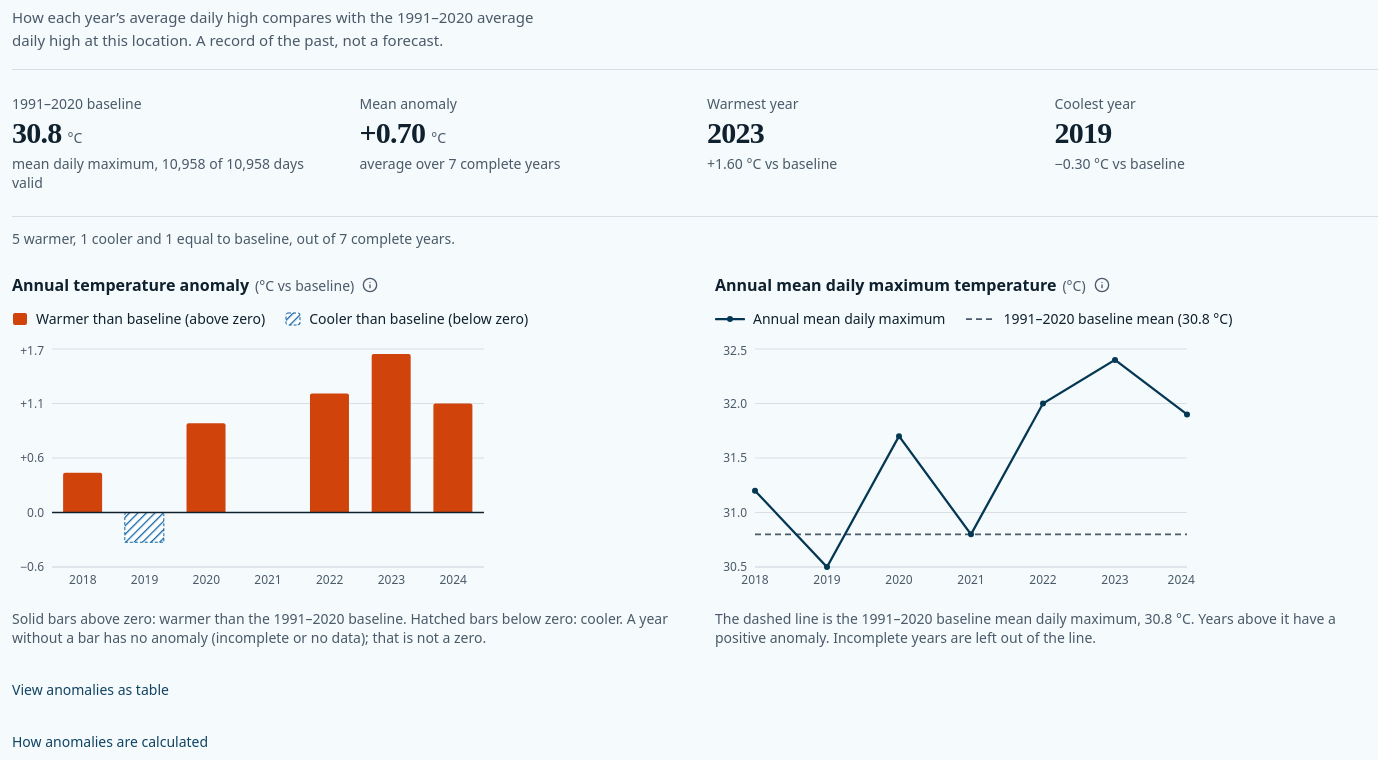
Test: AnomalySection with data › explains the method: formula, fixed baseline, not a threshold, not a forecast
This screenshot has width=1378, height=760.
(page scrolled)
Click the heading "How anomalies are calculated": (110, 741) [12, 732, 208, 750]
(page scrolled)
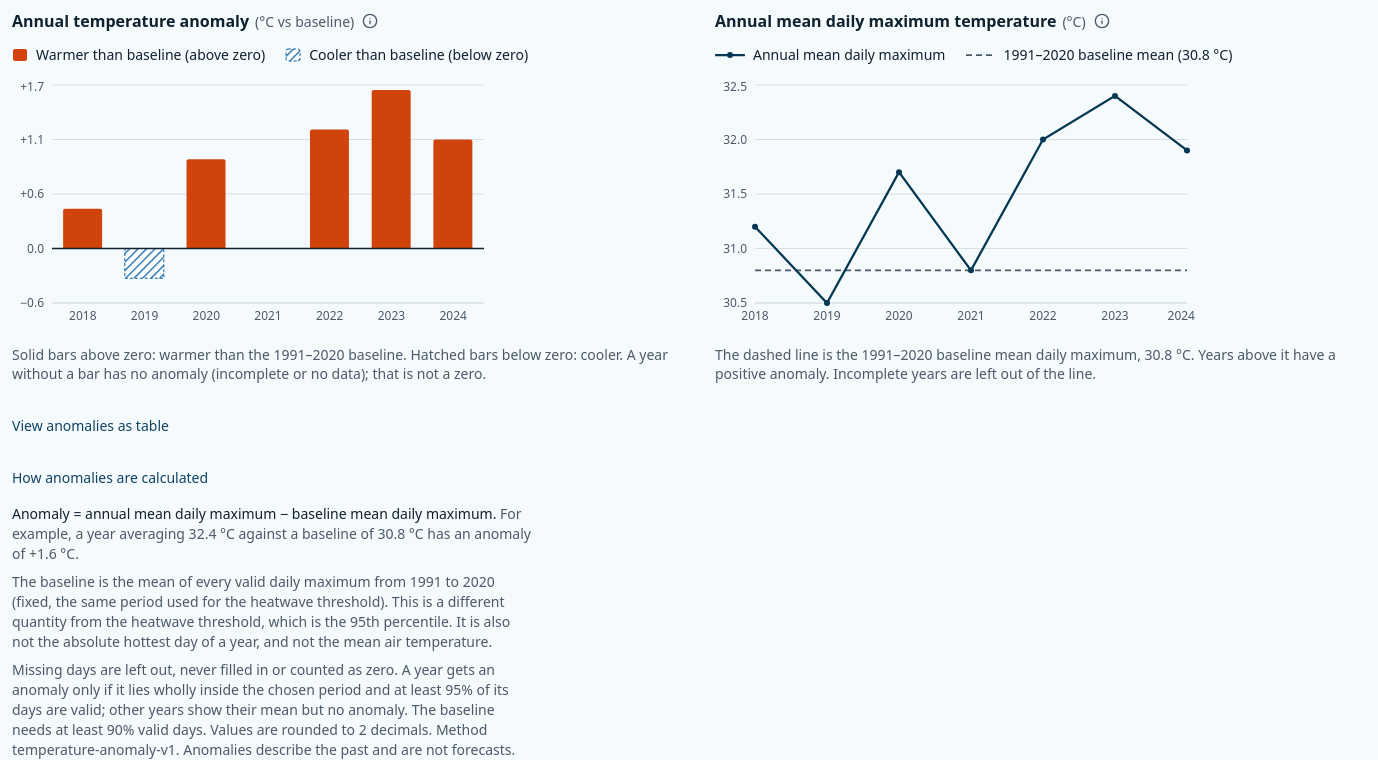
Now the text "Anomaly = annual mean daily maximum − baseline mean daily maximum." is shown, box [12, 504, 496, 522]
Now the text "32.4 °C against a baseline of 30.8 °C has an anomaly of +1.6 °C" is shown, box [12, 504, 531, 562]
Now the text "not the absolute hottest day of a year, and not the mean air temperature" is shown, box [12, 592, 510, 650]
